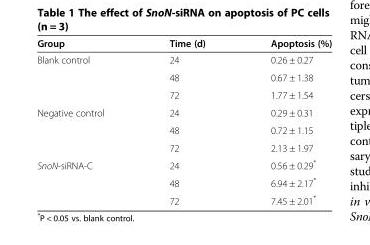table: (36, 37, 331, 206)
table column: (136, 37, 237, 206), (36, 37, 136, 206), (237, 37, 331, 206)
table column header: (36, 37, 331, 51)
table row: (36, 85, 331, 103), (36, 103, 331, 121), (36, 155, 331, 173), (36, 51, 331, 68), (36, 68, 331, 85), (36, 121, 331, 138), (36, 138, 331, 155), (36, 173, 331, 190), (36, 190, 331, 206), (36, 37, 331, 51)
table spanning cell: (36, 51, 136, 103), (36, 103, 136, 155), (36, 155, 136, 206)
